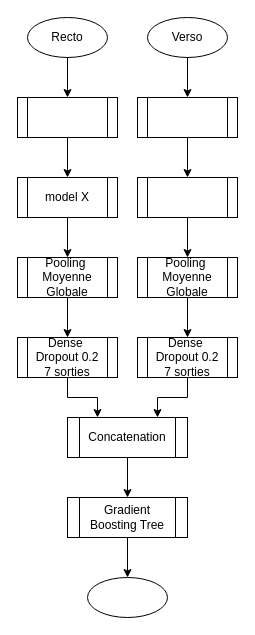
The diagram is 255 pixels wide and 635 high, and some of its shapes have lost their labels. Here are the shapes that lost their labels. From the top down, the centre of each, then its label:
At (67,117): "Pré-traitement du model X".
At (187,117): "Pré-traitement du model Y".
At (187,197): "model Y".
At (127,597): "Prédiction".
